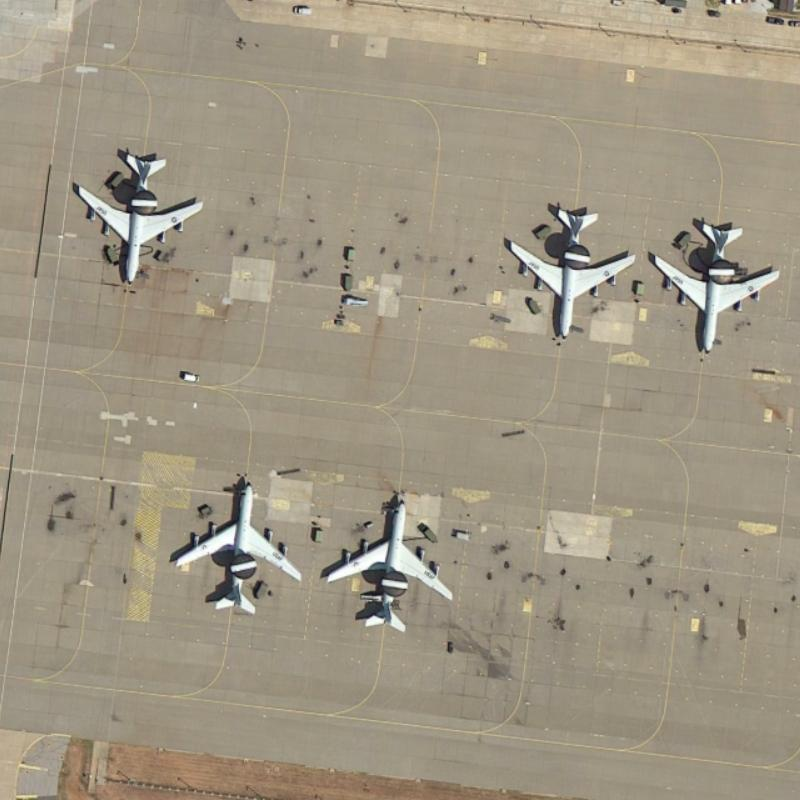A7: (642, 212, 782, 361), (166, 471, 305, 620), (70, 145, 208, 288), (319, 493, 454, 637), (499, 204, 637, 343)
